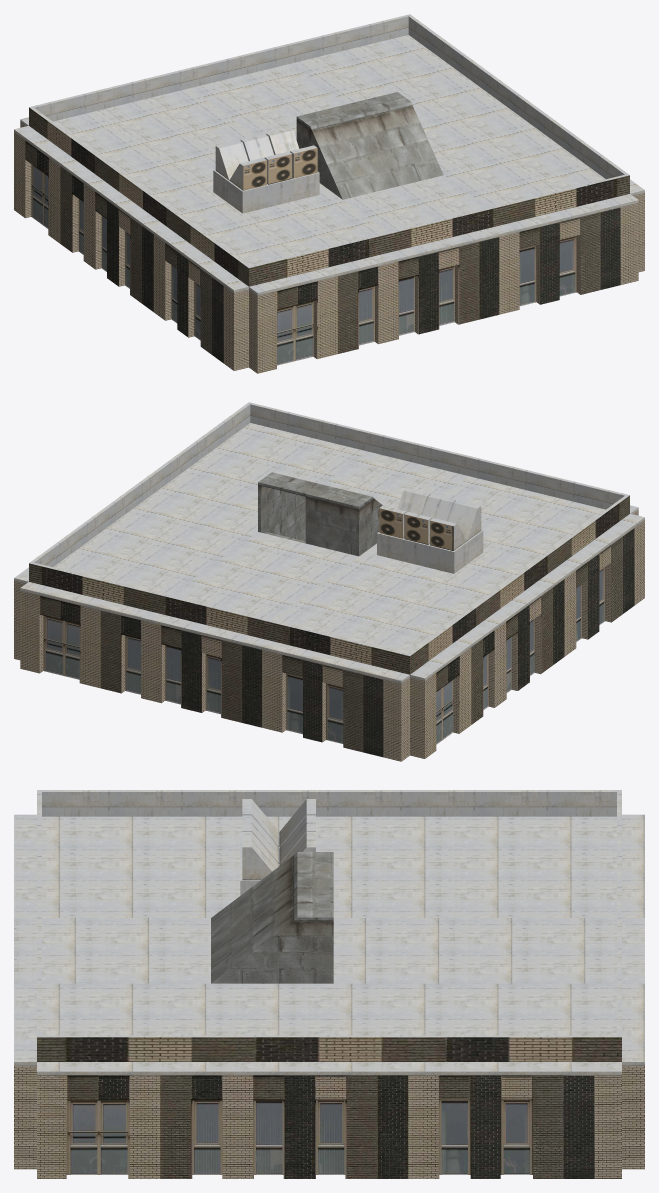
The model's file is BagSS04top_300.fbx.
3 renders of one model, top to bottom at view 1: azimuth 30°, elevation 25°; view 2: azimuth 150°, elevation 25°; view 3: azimuth 270°, elevation 25°, orthographic. The views are drawn at different scales.
Visible parts, largest first — view 1: topRoof300, topmain300, topRim300, topStairs300, topvents300; view 2: topRoof300, topmain300, topRim300, topStairs300, topvents300; view 3: topRoof300, topmain300, topRim300, topStairs300.
Part boxes in pixels (<box>): topRoof300: <box>14,14,644,295</box>; topmain300: <box>14,122,644,373</box>; topRim300: <box>29,107,629,286</box>; topStairs300: <box>296,92,443,199</box>; topvents300: <box>243,148,317,190</box>; topRoof300: <box>14,402,644,683</box>; topmain300: <box>14,510,644,761</box>; topRim300: <box>29,495,629,674</box>; topStairs300: <box>258,472,382,556</box>; topvents300: <box>379,508,453,550</box>; topRoof300: <box>14,790,644,1075</box>; topmain300: <box>14,1066,644,1178</box>; topRim300: <box>37,1037,621,1061</box>; topStairs300: <box>211,852,333,983</box>.
Bounding box in the file's own units: 22.1 × 6.7 × 22.1.
